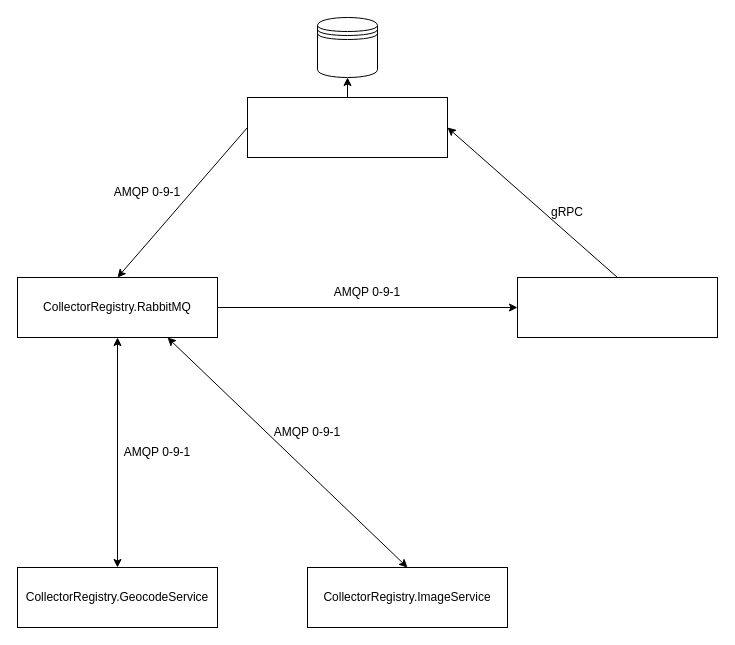
Image size: 735x645. Some labels were removed from this diagram. The box of each missing label's shape, as (x1, y1, x2, y2) in pixels:
CollectorRegistry.DataBridge: (516, 276, 718, 338)
CollectorRegistry.Server: (246, 96, 448, 158)
